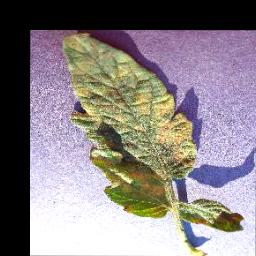Leaf_Mold: (61, 33, 196, 218), (194, 210, 243, 232)
